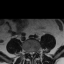CCS_normal: (31, 50, 33, 59)
LFS_severe_stenosis: (35, 49, 37, 54)
LLS_stenosis: (33, 50, 35, 56)
RFS_severe_stenosis: (27, 49, 29, 56)
RLS_stenosis: (28, 50, 31, 56)
